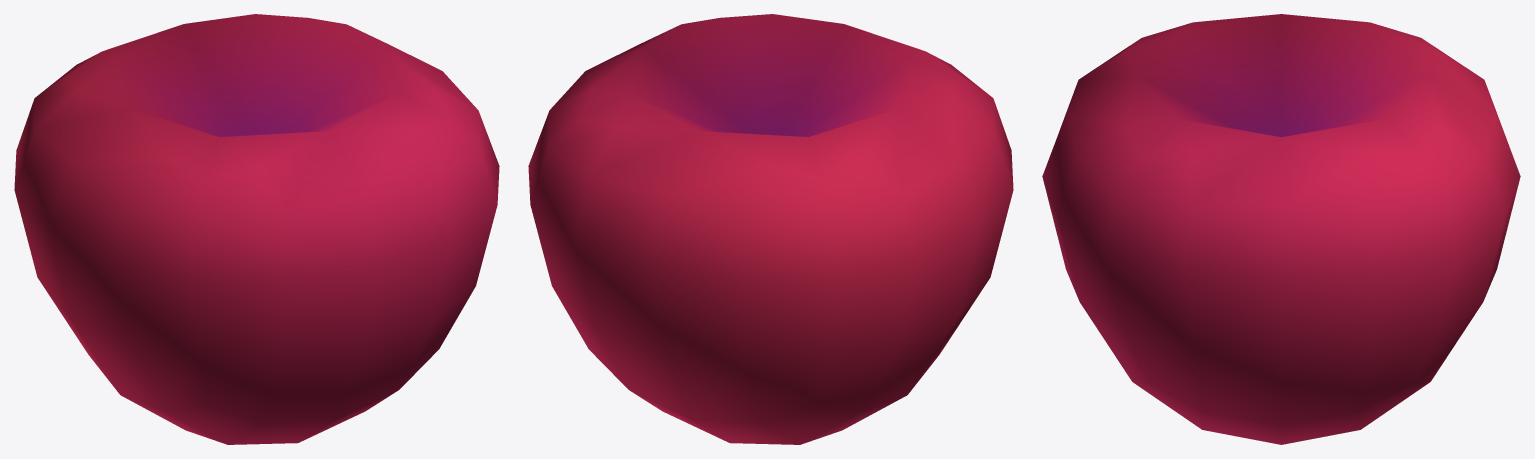
Rendered from raspberry_001.fbx.
3 renders of one model, left to right at view 1: azimuth 30°, elevation 25°; view 2: azimuth 150°, elevation 25°; view 3: azimuth 270°, elevation 25°, orthographic.
Visible parts, largest first — view 1: raspberry_001; view 2: raspberry_001; view 3: raspberry_001.
Part boxes in pixels (left/top/right/bottom): raspberry_001: left=14, top=14, right=499, bottom=444; raspberry_001: left=528, top=14, right=1013, bottom=444; raspberry_001: left=1042, top=14, right=1520, bottom=444.
Bounding box in the file's own units: 3.28 × 3.28 × 2.64.
